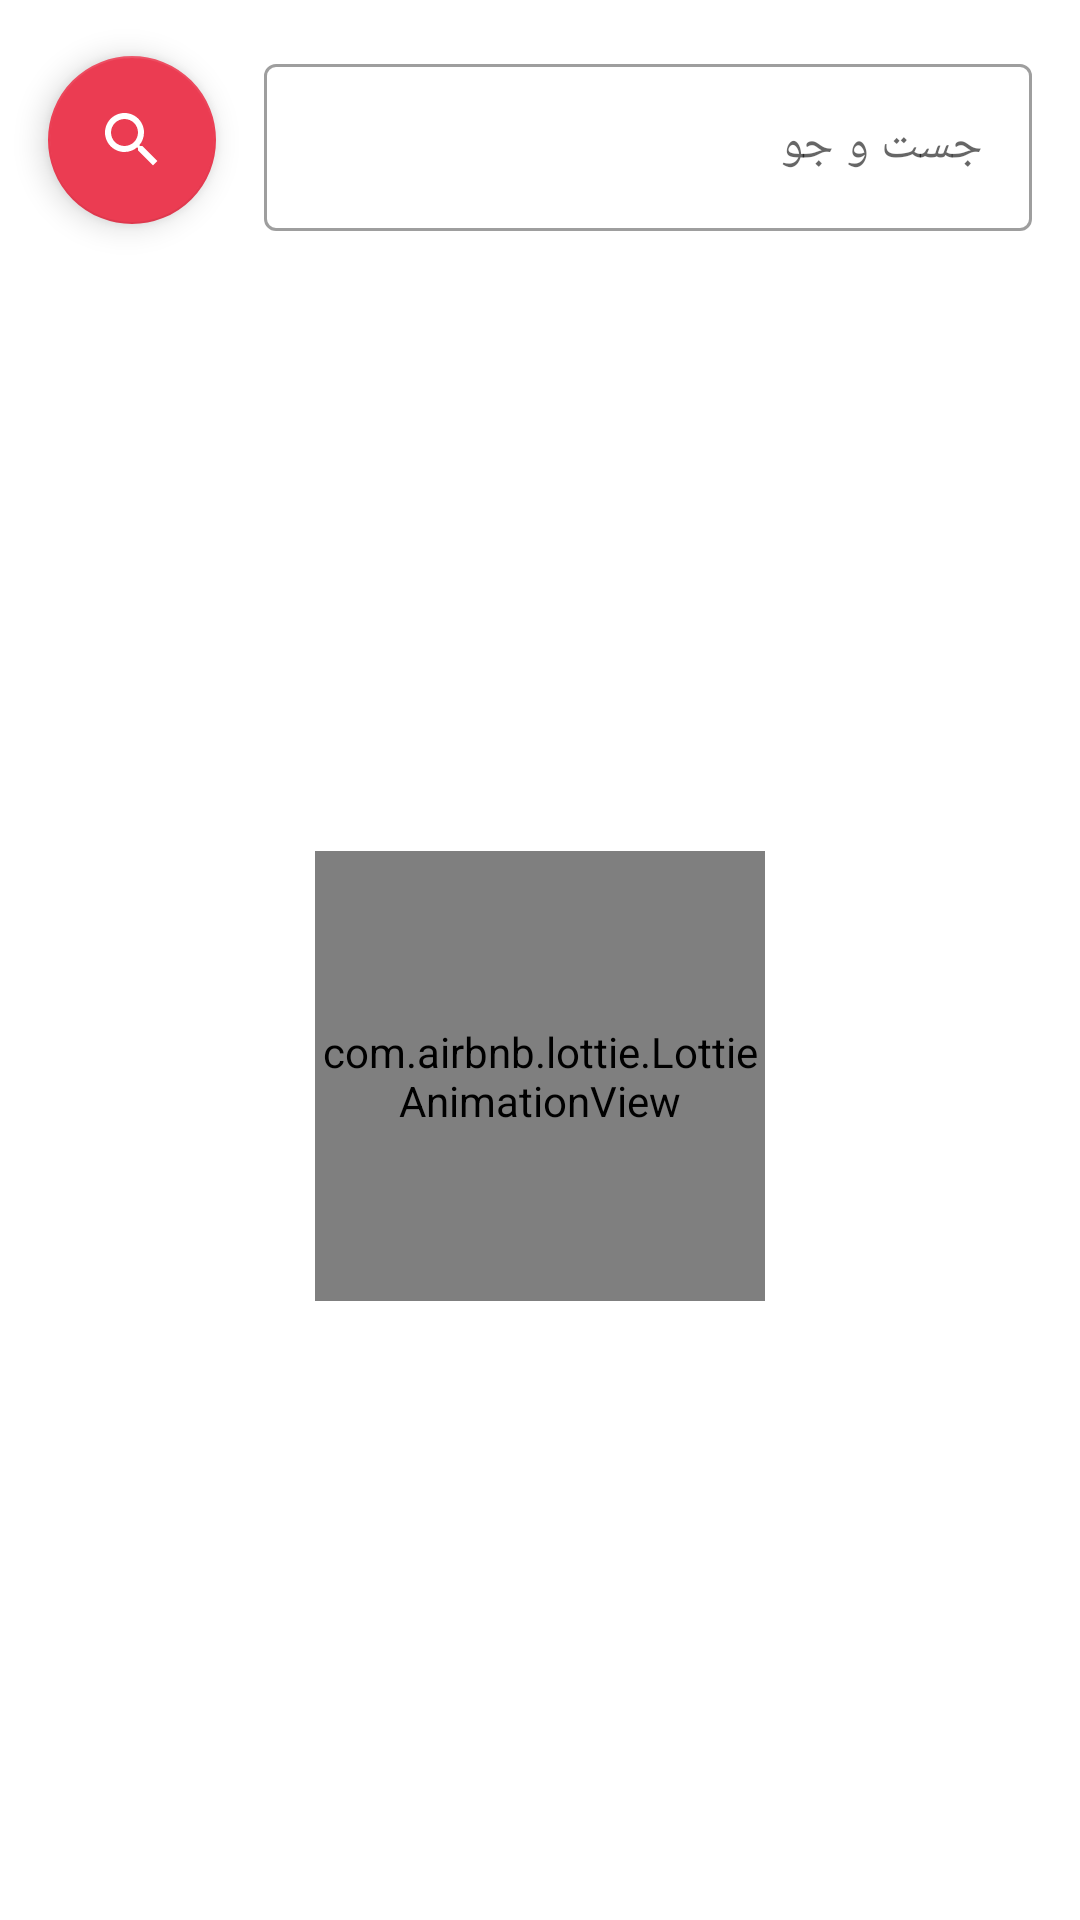

Named icons in this screenshot (1080w x 1920h) and their bounding boxes, (x1, y1, x2, y2):
search: (48, 56, 216, 224)
